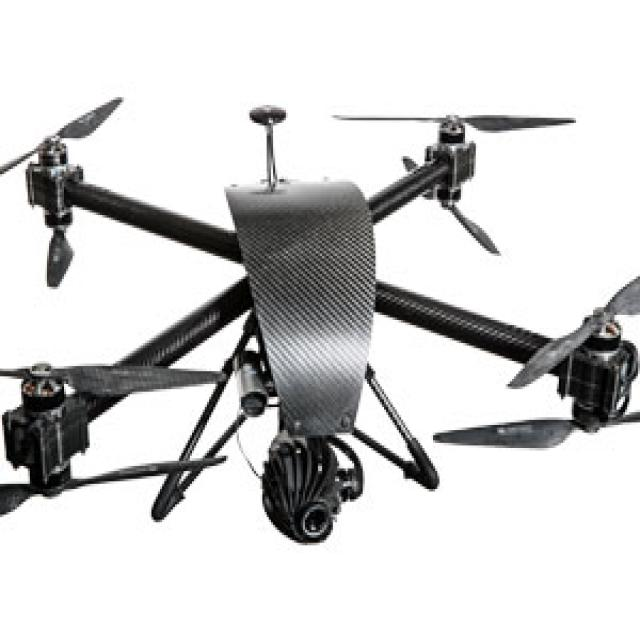drone: (2, 79, 640, 512)
